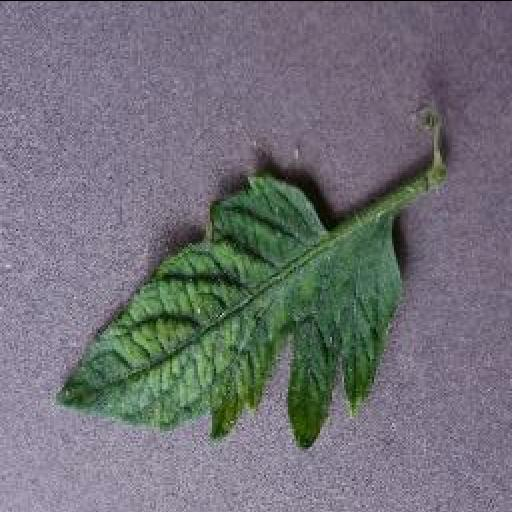Mosaic Virus: (54, 174, 404, 454)
